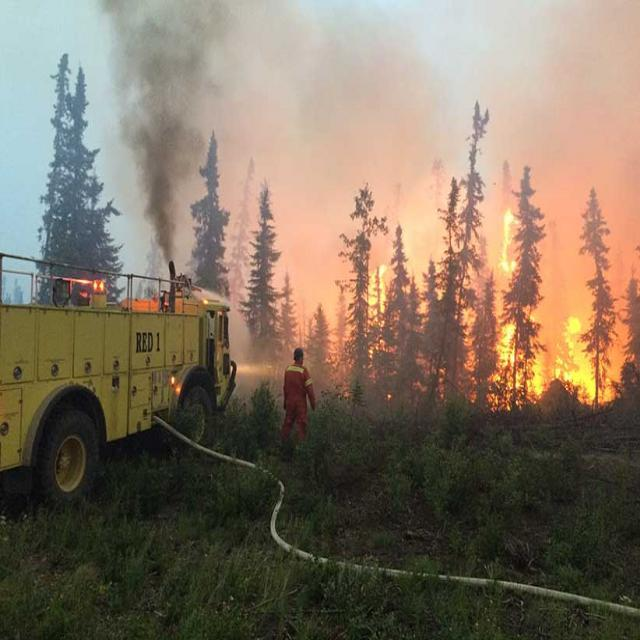Fire: (464, 195, 610, 417), (341, 257, 406, 358)
